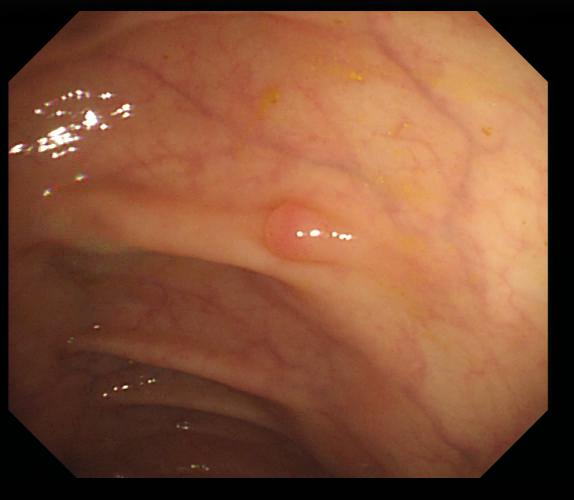polyp: (257, 195, 350, 278), (260, 82, 288, 111), (342, 65, 371, 89)
